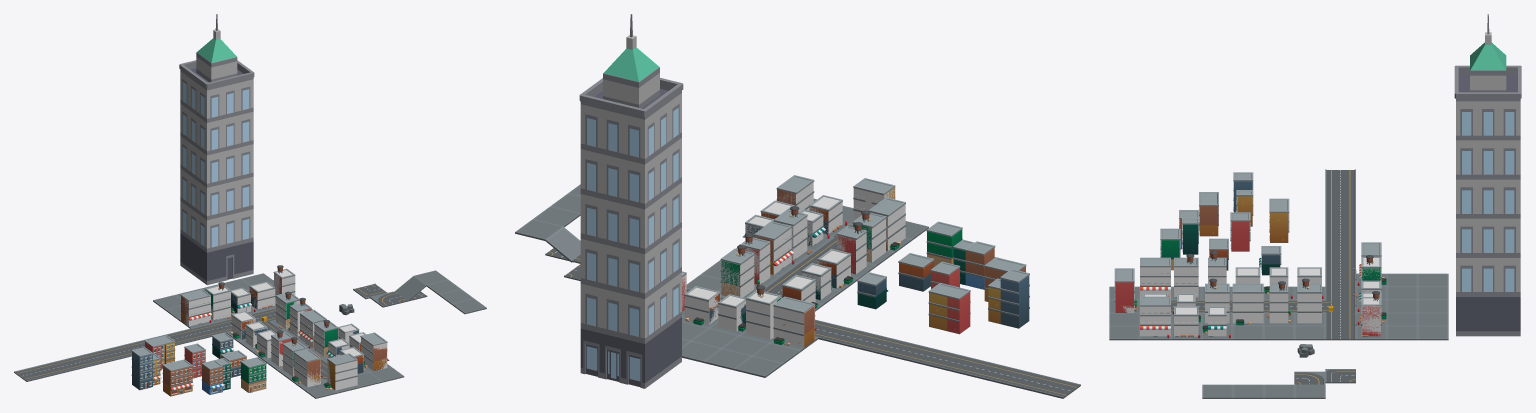
3 renders of one model, left to right at view 1: azimuth 30°, elevation 25°; view 2: azimuth 150°, elevation 25°; view 3: azimuth 270°, elevation 25°, orthographic. The views are drawn at different scales.
Visible parts, largest first — view 1: skyscraperE, building_H_withoutBase, building_E_withoutBase, building_G_withoutBase, building_D_withoutBase, building_E.002, building_E, building_F_withoutBase, 立方体.017, building_E.003, building_F, 立方体.011 (+11 smaller); view 2: skyscraperE, building_H_withoutBase, building_F_withoutBase, building_G_withoutBase, building_E.002, building_D_withoutBase, building_D.003, building_B_withoutBase, 立方体.001, 立方体.011, 立方体, building_A_withoutBase (+44 smaller); view 3: skyscraperE, building_F, building_F_withoutBase, building_H_withoutBase, building_E_withoutBase, 立方体.015, building_G_withoutBase, building_C.002, 立方体.018, building_C_withoutBase, building_E.003, 立方体 (+54 smaller).
Boxes of the visible parts, x1,y1,x2,y2 form: skyscraperE: (179, 14, 254, 285); building_H_withoutBase: (131, 347, 161, 390); building_E_withoutBase: (162, 359, 193, 396); building_G_withoutBase: (201, 358, 230, 394); building_D_withoutBase: (240, 357, 266, 392); building_E.002: (178, 289, 212, 328); building_E: (290, 348, 324, 389); building_F_withoutBase: (144, 335, 175, 370); 立方体.017: (327, 360, 357, 390); building_E.003: (360, 332, 389, 370); building_F: (327, 353, 359, 393); 立方体.011: (181, 295, 210, 326); skyscraperE: (579, 14, 683, 388); building_H_withoutBase: (988, 269, 1029, 328); building_F_withoutBase: (928, 282, 970, 334); building_G_withoutBase: (953, 239, 995, 289); building_E.002: (770, 296, 818, 351); building_D_withoutBase: (926, 221, 962, 266); building_D.003: (718, 245, 756, 297); building_B_withoutBase: (898, 253, 934, 291); 立方体.001: (746, 292, 781, 339); 立方体.011: (773, 305, 814, 347); 立方体: (721, 255, 754, 297); building_A_withoutBase: (857, 272, 888, 309); skyscraperE: (1454, 14, 1521, 336); building_F: (1109, 268, 1139, 312); building_F_withoutBase: (1269, 198, 1289, 242); building_H_withoutBase: (1233, 172, 1253, 226); building_E_withoutBase: (1199, 192, 1218, 236); 立方体.015: (1232, 293, 1263, 323); building_G_withoutBase: (1179, 210, 1198, 254); building_C.002: (1356, 291, 1386, 340); 立方体.018: (1140, 306, 1170, 336); building_C_withoutBase: (1230, 212, 1250, 251); building_E.003: (1140, 296, 1170, 340); 立方体: (1297, 293, 1321, 323).
Size of the model in its own units: 3695 by 2210 by 2674.
Materials: 92 (85 with a texture image).
